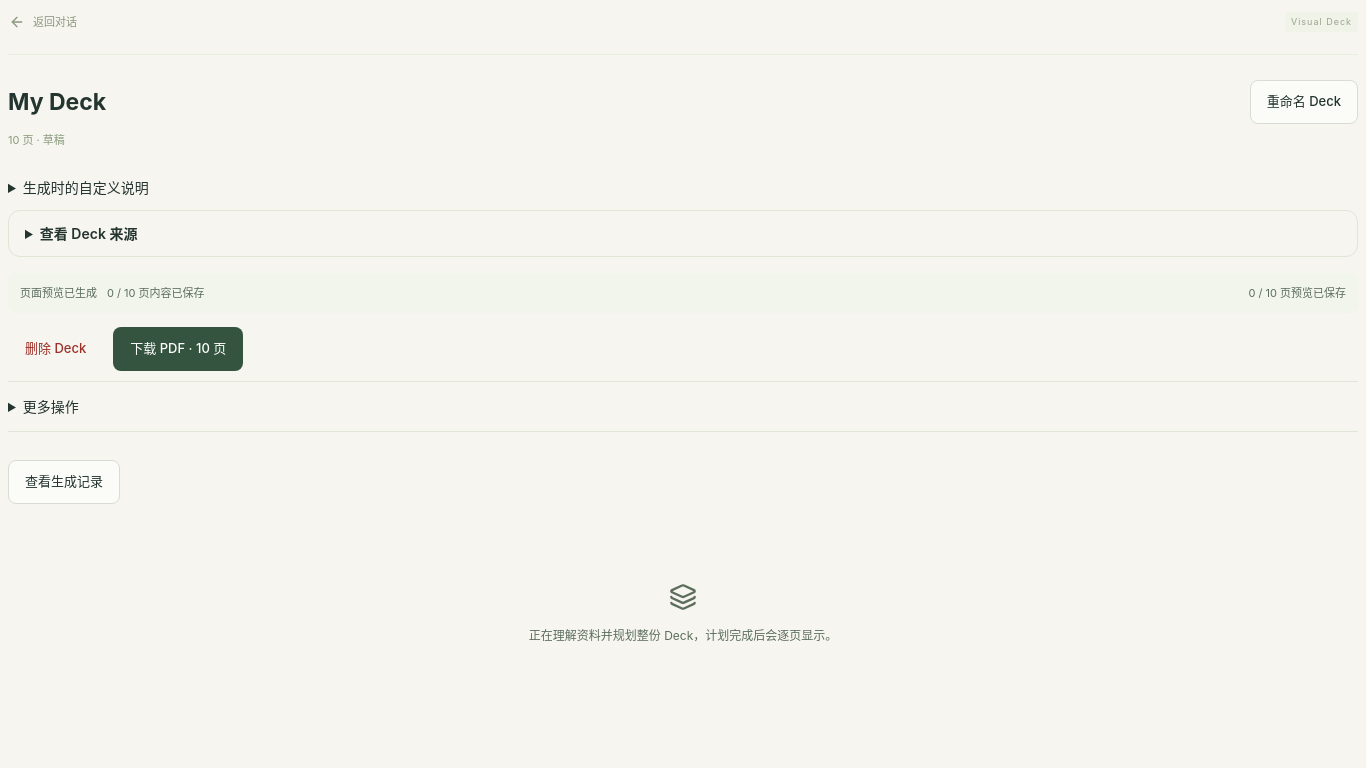
Test case: rename preserves drafts across languages, retries failures and updates the download name
The image size is (1366, 768).
Step 1. Click the button "重命名 Deck" → {"x": 1304, "y": 102}, box [1250, 80, 1358, 124]
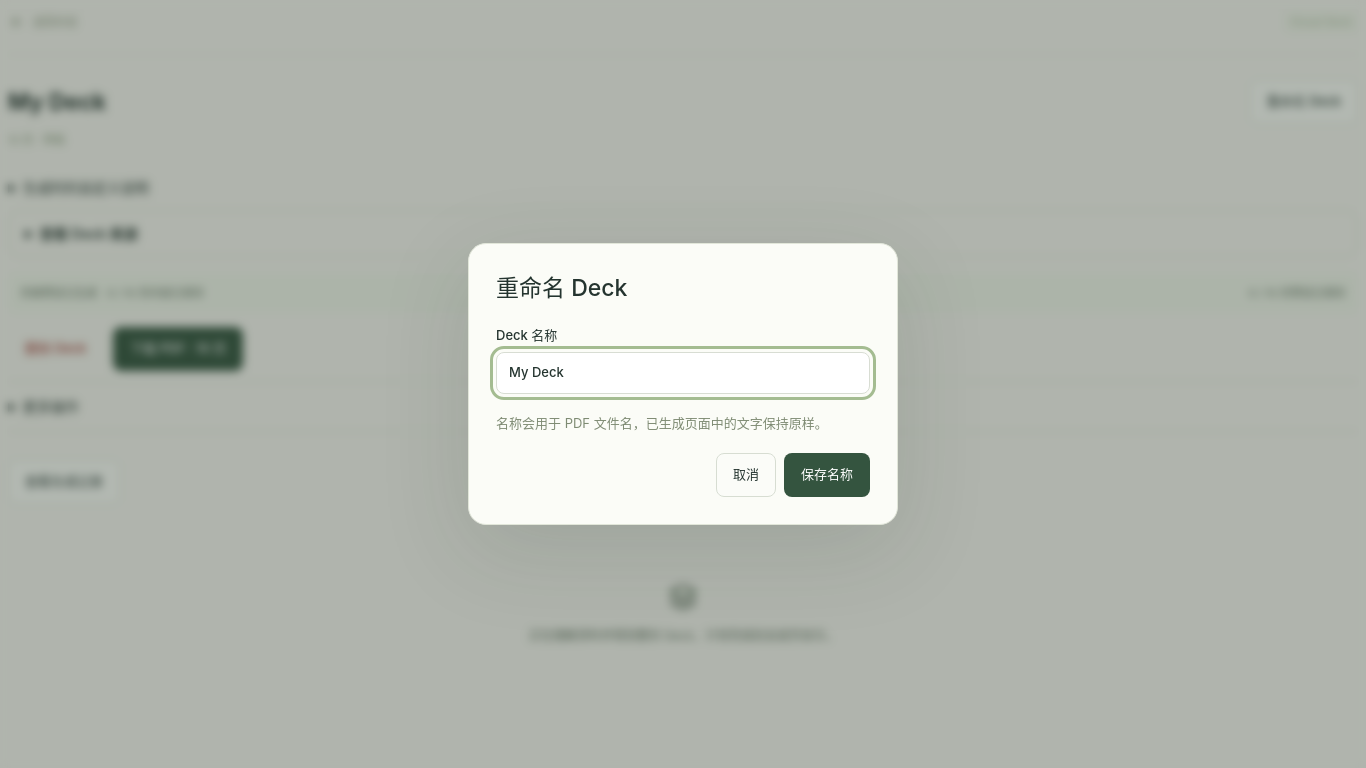
Step 2. Replace the text in the field labelled "Deck 名称" with "蜂蜜供品" → {"x": 683, "y": 373}, box [496, 352, 870, 394]
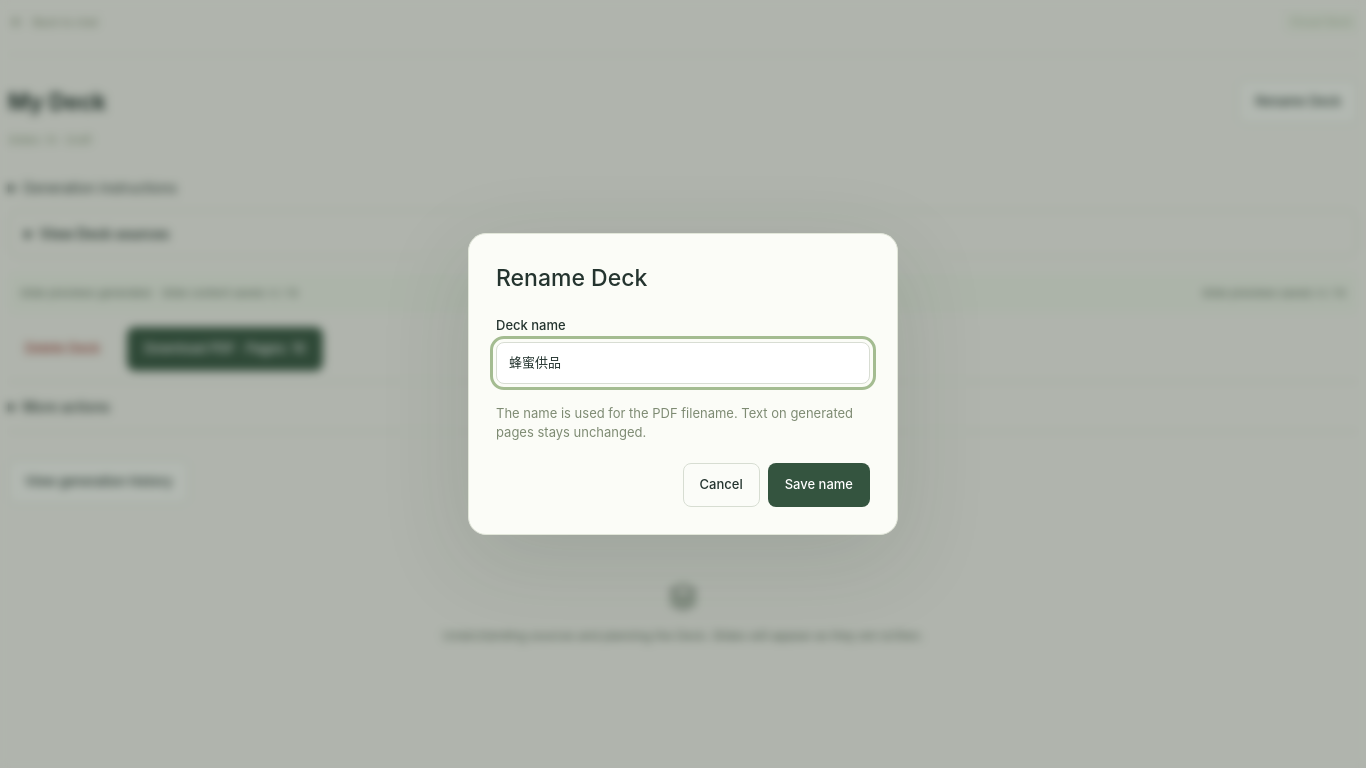
Step 3. Click the button "Save name" → {"x": 819, "y": 485}, box [768, 463, 870, 507]
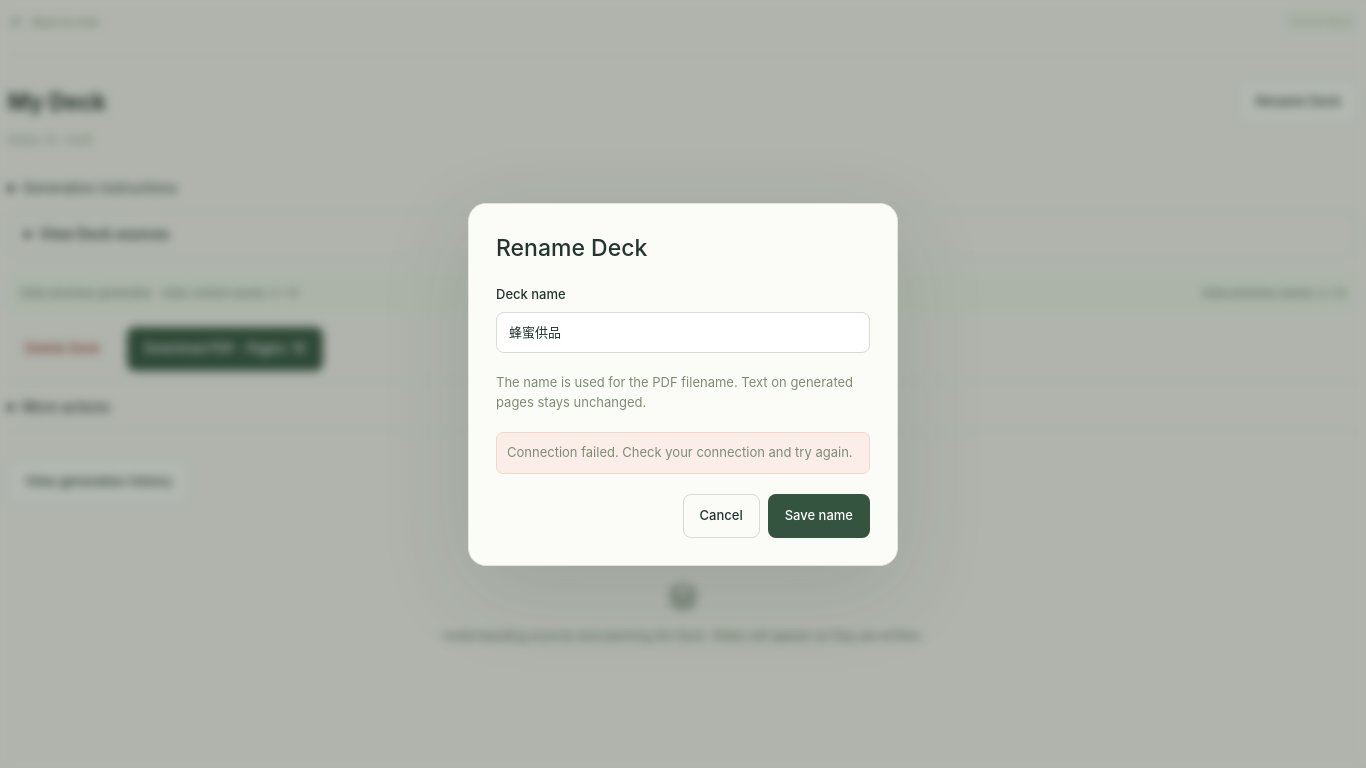
Result: the message "Connection failed. Check your connection and try again." is shown at [496, 432, 870, 474]
Step 4. Click the button "Save name" → {"x": 819, "y": 516}, box [768, 494, 870, 538]
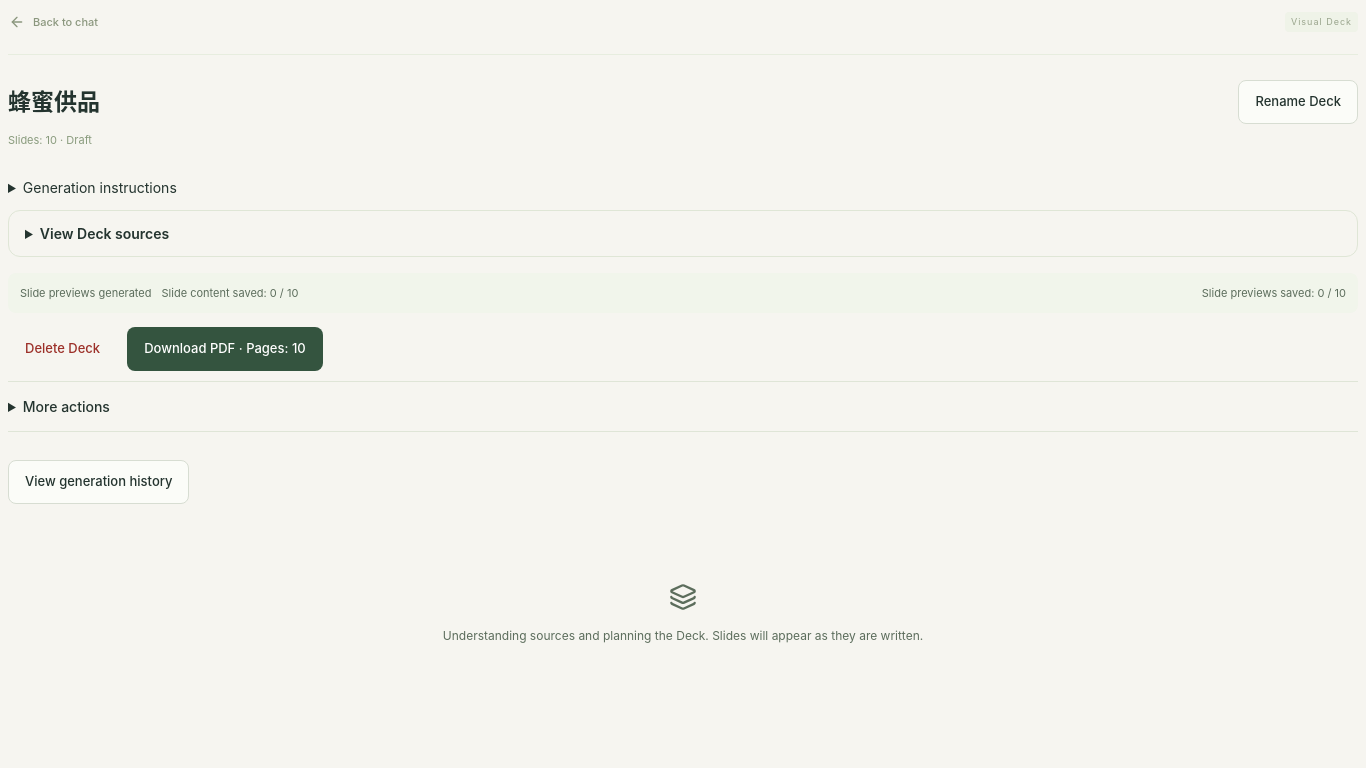
Result: the dialog is gone
Result: the heading "蜂蜜供品" is shown at [8, 88, 100, 116]
